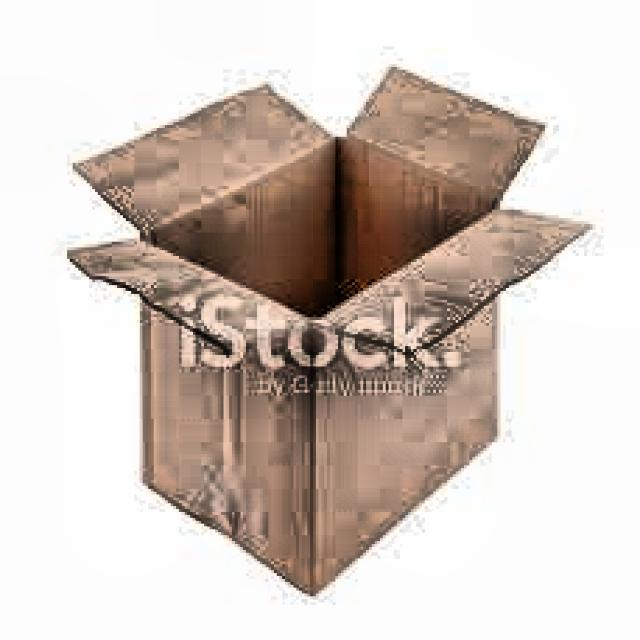Cardbox: (61, 56, 600, 582)
